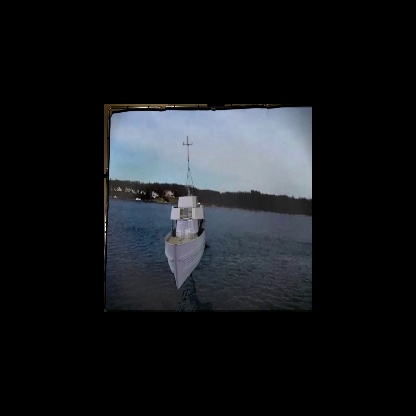YP689: (163, 135, 208, 289)
